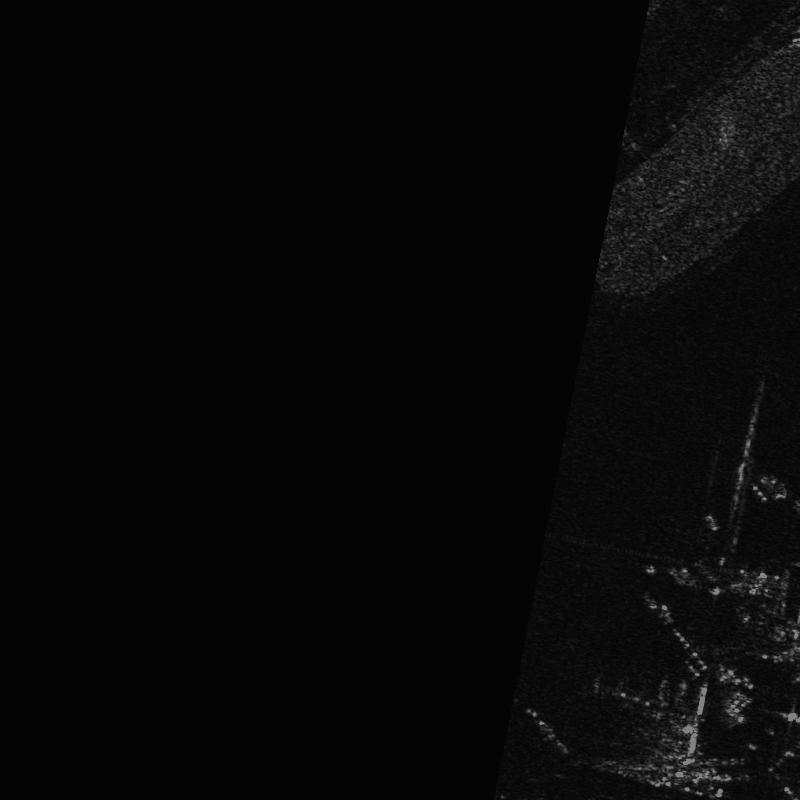Boeing787: (592, 666, 709, 789)
